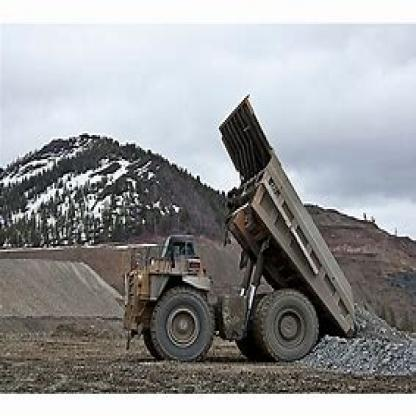dump_truck: (112, 89, 368, 359)
